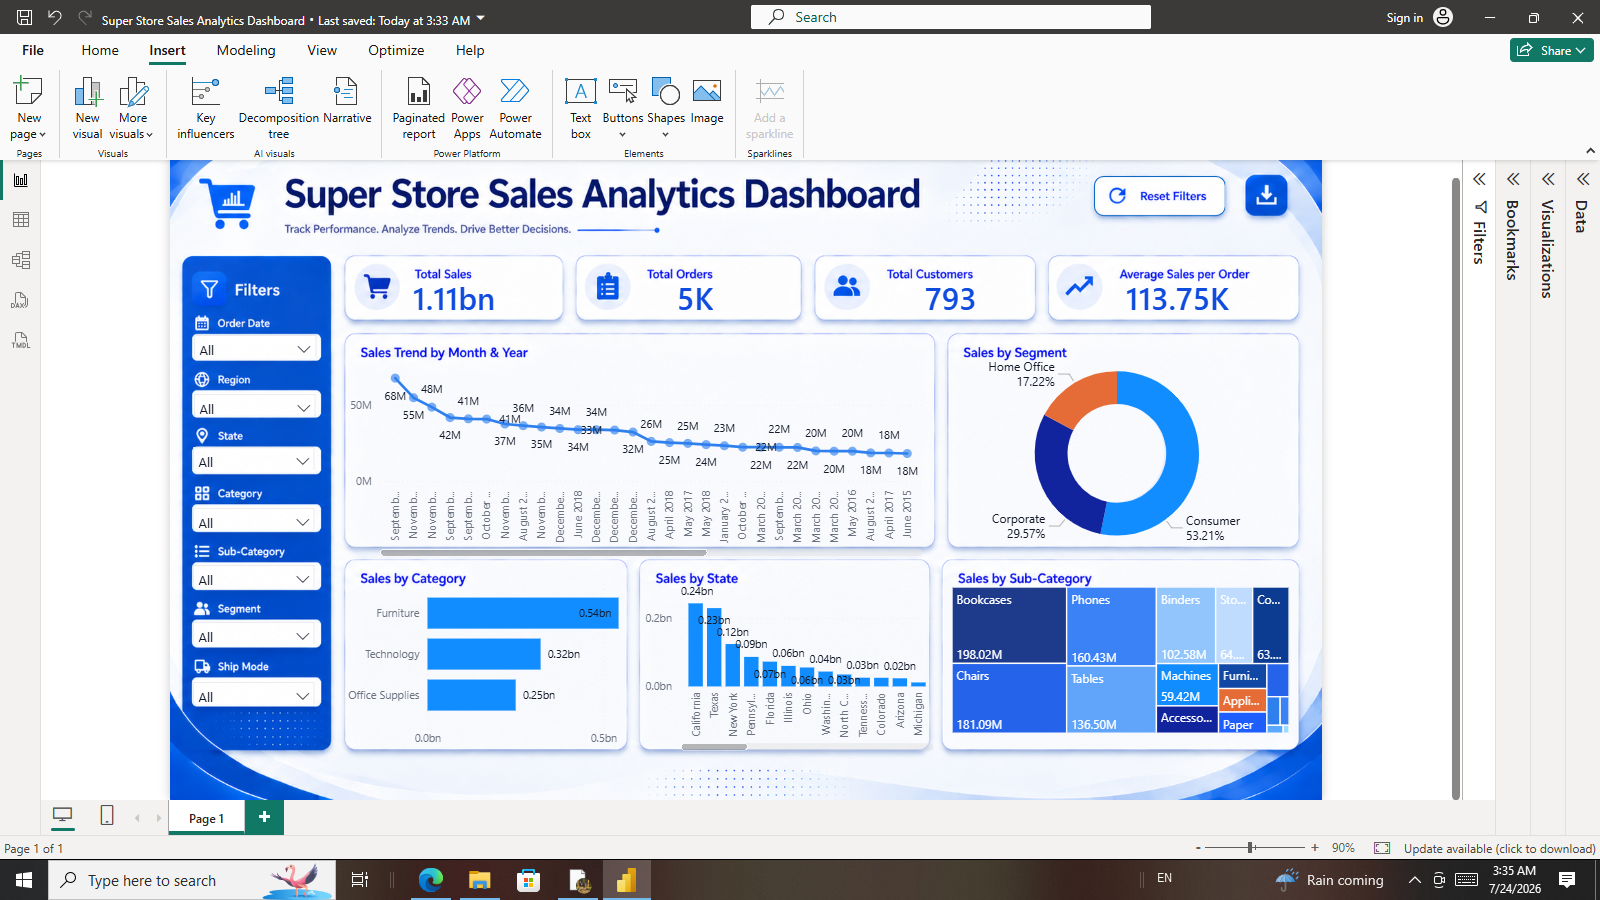

Layout of this report page (visuals, bound fields, positions):
{"tool":"powerbi","page":{"name":"Page 1","canvas":[1280,720],"ordinal":0},"visuals":[{"type":"cardVisual","fields":{"Data":["Superstore_Sales_Dataset.Total Sales"]},"box":[241.6,119.5,199.2,79.7],"z":0},{"type":"cardVisual","fields":{"Data":["Superstore_Sales_Dataset.Total Orders"]},"box":[534.6,119.5,164.5,79.7],"z":1000},{"type":"cardVisual","fields":{"Data":["Superstore_Sales_Dataset.Total Customers"]},"box":[809.6,119.5,164.5,79.7],"z":2000},{"type":"cardVisual","fields":{"Data":["Superstore_Sales_Dataset.Average Sales"]},"box":[1033.3,119.5,194.1,79.7],"z":3000},{"type":"lineChart","fields":{"Category":["Superstore_Sales_Dataset.Month & Year Order"],"Y":["Sum(Superstore_Sales_Dataset.Sales)"]},"box":[190.2,210.8,655.4,248],"z":4000},{"type":"donutChart","fields":{"Y":["Sum(Superstore_Sales_Dataset.Sales)"],"Category":["Superstore_Sales_Dataset.Segment"]},"box":[876.5,196.6,350.8,276.3],"z":5000},{"type":"clusteredBarChart","fields":{"Category":["Superstore_Sales_Dataset.Category"],"Y":["Sum(Superstore_Sales_Dataset.Sales)"]},"box":[181.2,458.8,383,215.9],"z":6000},{"type":"clusteredColumnChart","fields":{"Category":["Superstore_Sales_Dataset.State"],"Y":["Sum(Superstore_Sales_Dataset.Sales)"]},"box":[517.9,458.8,340.6,215.9],"z":7000},{"type":"treemap","fields":{"Group":["Superstore_Sales_Dataset.Sub-Category"],"Values":["Sum(Superstore_Sales_Dataset.Sales)"]},"box":[858.5,472.9,394.5,182.5],"z":8000},{"type":"slicer","fields":{"Values":["Superstore_Sales_Dataset.Order Date"]},"box":[16.1,192.8,155.6,35],"z":9000},{"type":"slicer","fields":{"Values":["Superstore_Sales_Dataset.Region"]},"box":[16.2,259.2,155.4,34.6],"z":10000},{"type":"slicer","fields":{"Values":["Superstore_Sales_Dataset.State"]},"box":[16,317.3,155.3,34.7],"z":11000},{"type":"slicer","fields":{"Values":["Superstore_Sales_Dataset.Category"]},"box":[16,385.3,155.3,34.7],"z":12000},{"type":"slicer","fields":{"Values":["Superstore_Sales_Dataset.Sub-Category"]},"box":[16,448.7,155.3,34.7],"z":13000},{"type":"slicer","fields":{"Values":["Superstore_Sales_Dataset.Segment"]},"box":[16,512,155.3,34.7],"z":14000},{"type":"slicer","fields":{"Values":["Superstore_Sales_Dataset.Ship Mode"]},"box":[16,578.7,155.3,34.7],"z":15000},{"type":"shape","box":[1026.9,26.2,146.2,44.6],"z":16000}]}

Visuals, with their boxes on the page's 1280x720 design canvas (x1, y1, x2, y2). These are canvas units, not pixel positions in the 1600x900 screenshot, which may show the page scaled, cropped or inside an application window:
cardVisual - Superstore_Sales_Dataset.Total Sales: <box>242,120,441,199</box>
cardVisual - Superstore_Sales_Dataset.Total Orders: <box>535,120,699,199</box>
cardVisual - Superstore_Sales_Dataset.Total Customers: <box>810,120,974,199</box>
cardVisual - Superstore_Sales_Dataset.Average Sales: <box>1033,120,1227,199</box>
lineChart - Superstore_Sales_Dataset.Month & Year Order x Sum(Superstore_Sales_Dataset.Sales): <box>190,211,846,459</box>
donutChart - Sum(Superstore_Sales_Dataset.Sales) x Superstore_Sales_Dataset.Segment: <box>876,197,1227,473</box>
clusteredBarChart - Superstore_Sales_Dataset.Category x Sum(Superstore_Sales_Dataset.Sales): <box>181,459,564,675</box>
clusteredColumnChart - Superstore_Sales_Dataset.State x Sum(Superstore_Sales_Dataset.Sales): <box>518,459,858,675</box>
treemap - Superstore_Sales_Dataset.Sub-Category x Sum(Superstore_Sales_Dataset.Sales): <box>858,473,1253,655</box>
slicer - Superstore_Sales_Dataset.Order Date: <box>16,193,172,228</box>
slicer - Superstore_Sales_Dataset.Region: <box>16,259,172,294</box>
slicer - Superstore_Sales_Dataset.State: <box>16,317,171,352</box>
slicer - Superstore_Sales_Dataset.Category: <box>16,385,171,420</box>
slicer - Superstore_Sales_Dataset.Sub-Category: <box>16,449,171,483</box>
slicer - Superstore_Sales_Dataset.Segment: <box>16,512,171,547</box>
slicer - Superstore_Sales_Dataset.Ship Mode: <box>16,579,171,613</box>
shape: <box>1027,26,1173,71</box>
